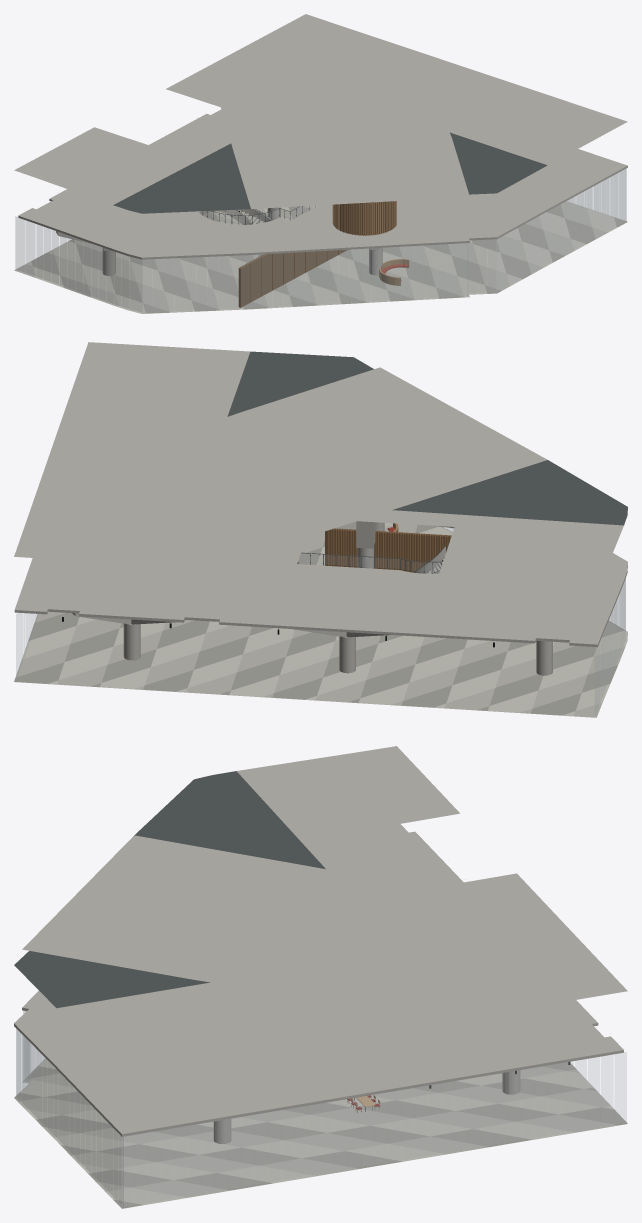
The model's file is mar-interior-13b6b14e48c9.glb.
The picture shows the model from 3 angles, top to bottom: view 1: azimuth 30°, elevation 25°; view 2: azimuth 150°, elevation 25°; view 3: azimuth 270°, elevation 25°; orthographic projection. The views are drawn at different scales.
Parts seen in each view (by area): view 1: MAR.001; view 2: MAR.001; view 3: MAR.001.
Part boxes in pixels (bbox=[...]): MAR.001: bbox=[14, 14, 627, 313]; MAR.001: bbox=[14, 342, 627, 717]; MAR.001: bbox=[14, 746, 627, 1208].
Size of the model in its own units: 67.69 by 12.7 by 53.21.
